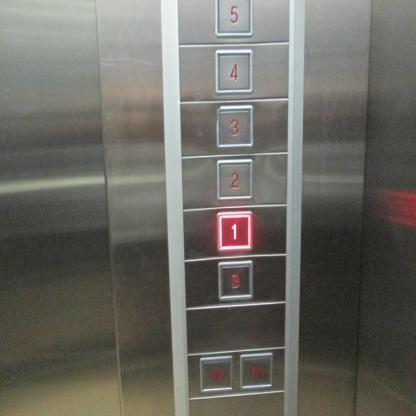1: (216, 208, 253, 250)
2: (215, 156, 253, 201)
3: (214, 103, 254, 148)
4: (214, 47, 252, 93)
5: (212, 0, 253, 37)
B: (216, 258, 254, 300)
close: (239, 354, 272, 388)
open: (199, 355, 233, 393)
